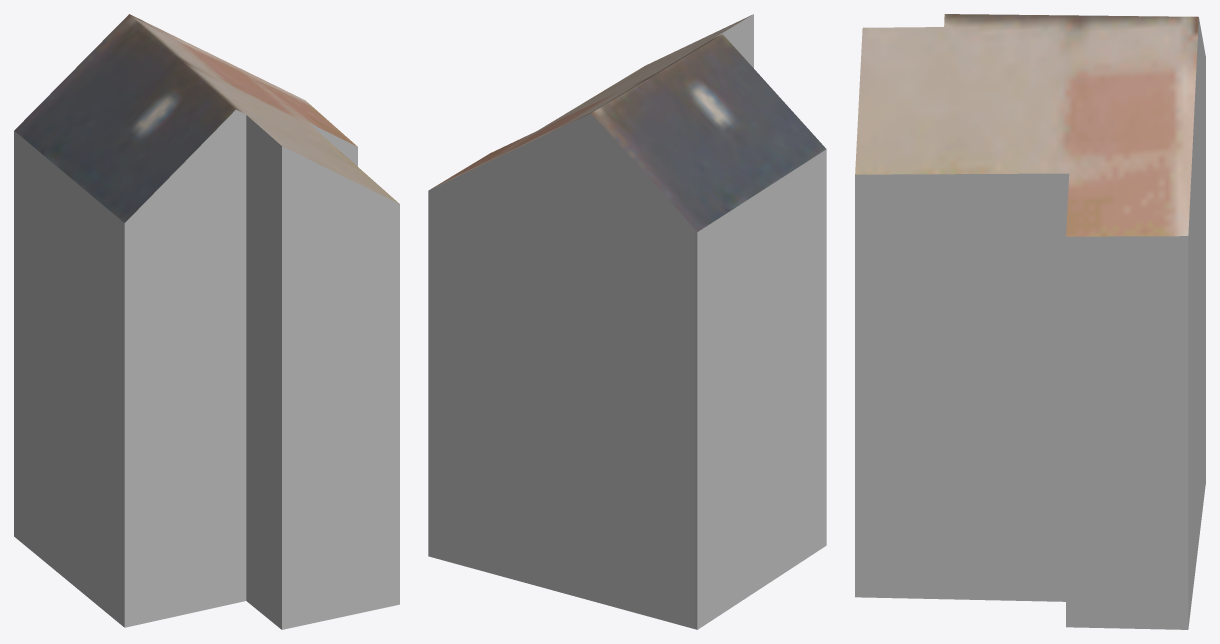
The model's file is DEBW_0010007Tx6M.gltf.
The picture shows the model from 3 angles, left to right: view 1: azimuth 30°, elevation 25°; view 2: azimuth 150°, elevation 25°; view 3: azimuth 270°, elevation 25°; orthographic projection. The views are drawn at different scales.
Visible parts, largest first — view 1: Z_UP; view 2: Z_UP; view 3: Z_UP.
Part boxes in pixels (x1,y1,x2,y2): Z_UP: [14, 14, 399, 629]; Z_UP: [428, 14, 826, 629]; Z_UP: [855, 14, 1205, 629].
Size of the model in its own units: 12.46 by 20.18 by 12.22.
2 materials, 1 textured.
